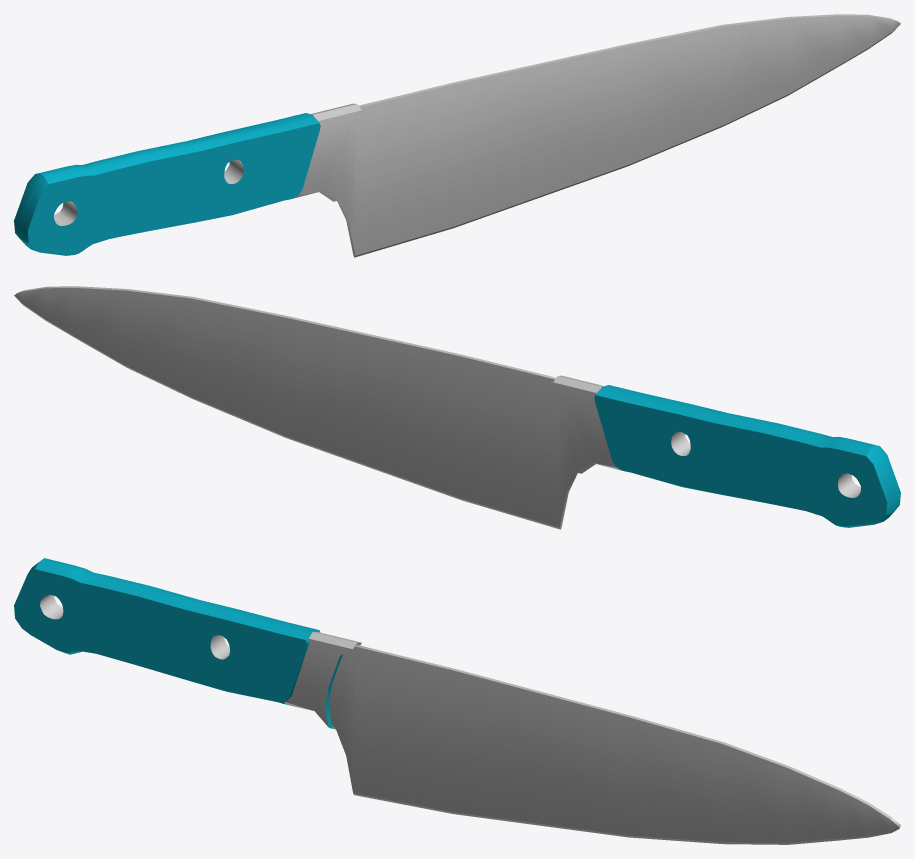
Rendered from KNIFE_02.FBX.
3 renders of one model, top to bottom at view 1: azimuth 30°, elevation 25°; view 2: azimuth 150°, elevation 25°; view 3: azimuth 330°, elevation 25°, orthographic.
Parts seen in each view (by area): view 1: Plane008; view 2: Plane008; view 3: Plane008.
Boxes of the visible parts, x1,y1,x2,y2 form: Plane008: (14, 14, 900, 257); Plane008: (14, 286, 900, 529); Plane008: (14, 558, 900, 844).
Size of the model in its own units: 126 by 21.82 by 3.42.
Materials: 3 (1 with a texture image).
